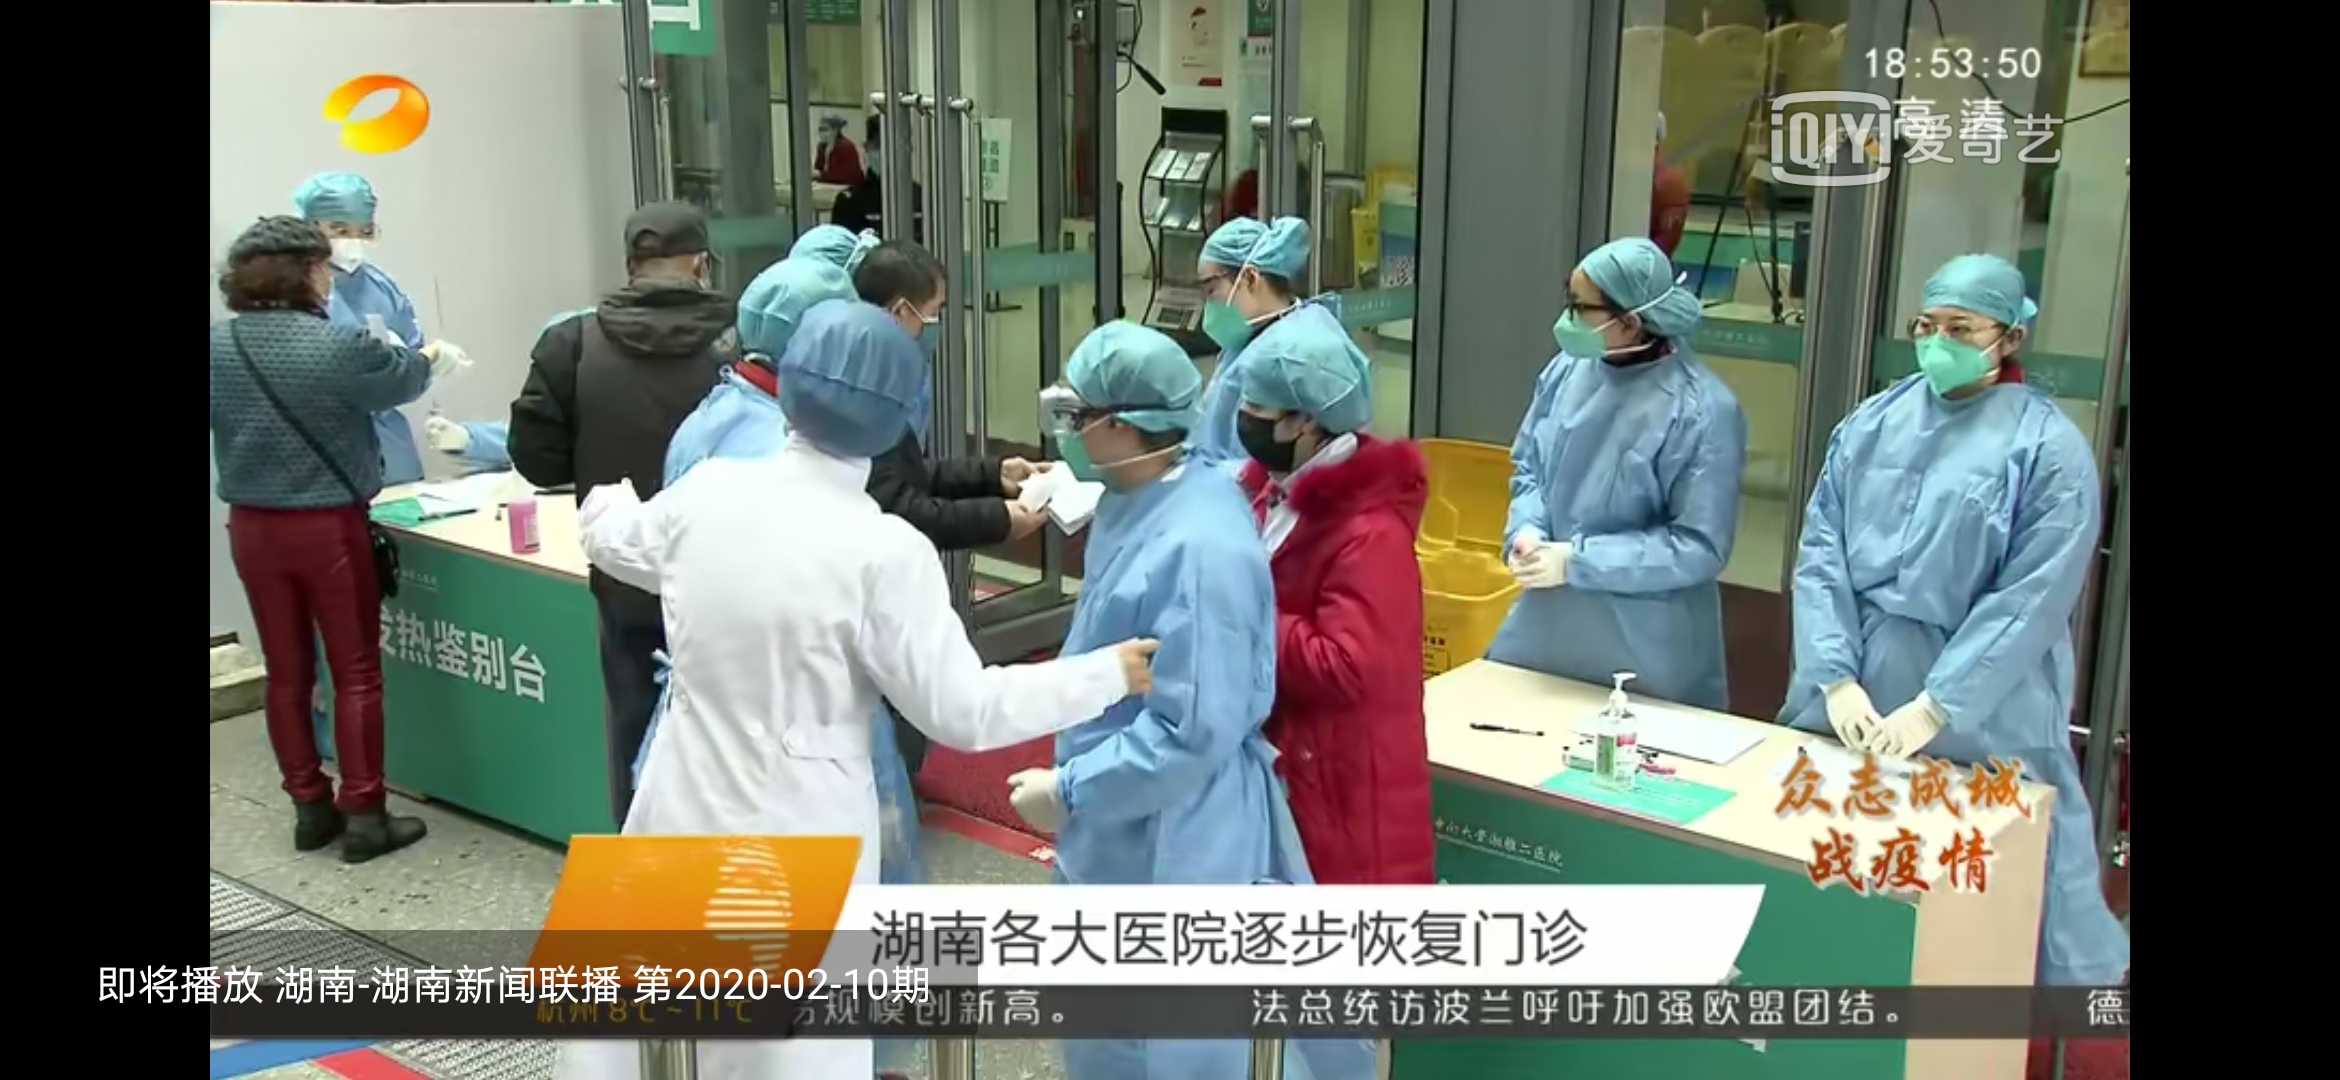correctlyWear: (1913, 301, 2018, 409), (1551, 271, 1639, 374), (1236, 388, 1327, 482), (1054, 397, 1140, 494), (1197, 263, 1277, 355), (322, 221, 381, 280), (863, 131, 882, 175), (818, 119, 836, 143)
